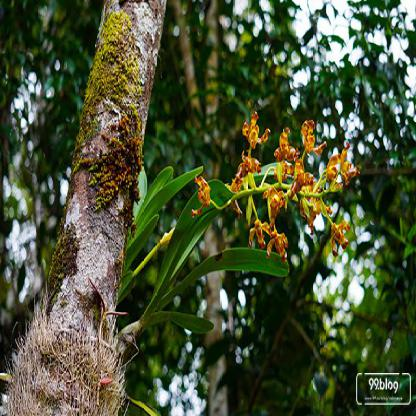ANGGREK: (164, 63, 379, 330)
